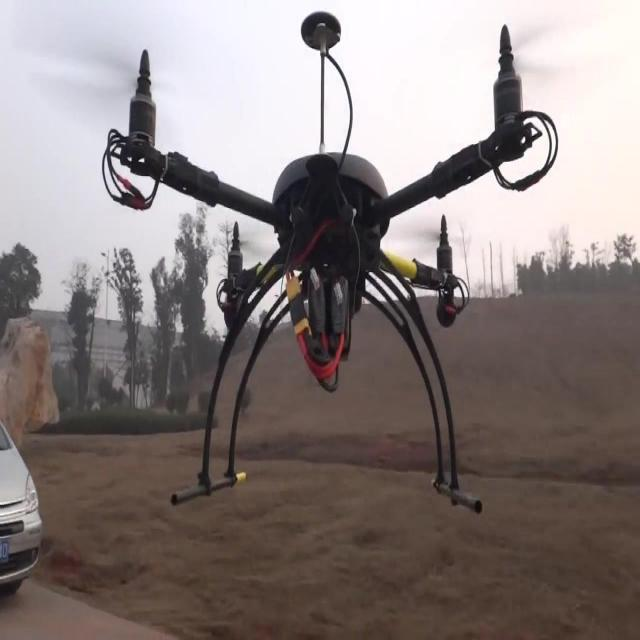UAV: (48, 12, 558, 506)
